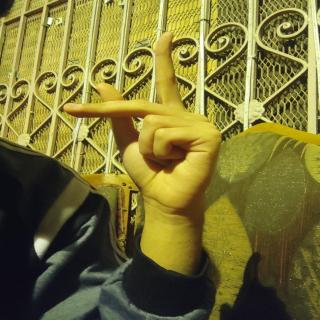DHAA: (59, 28, 231, 214)
